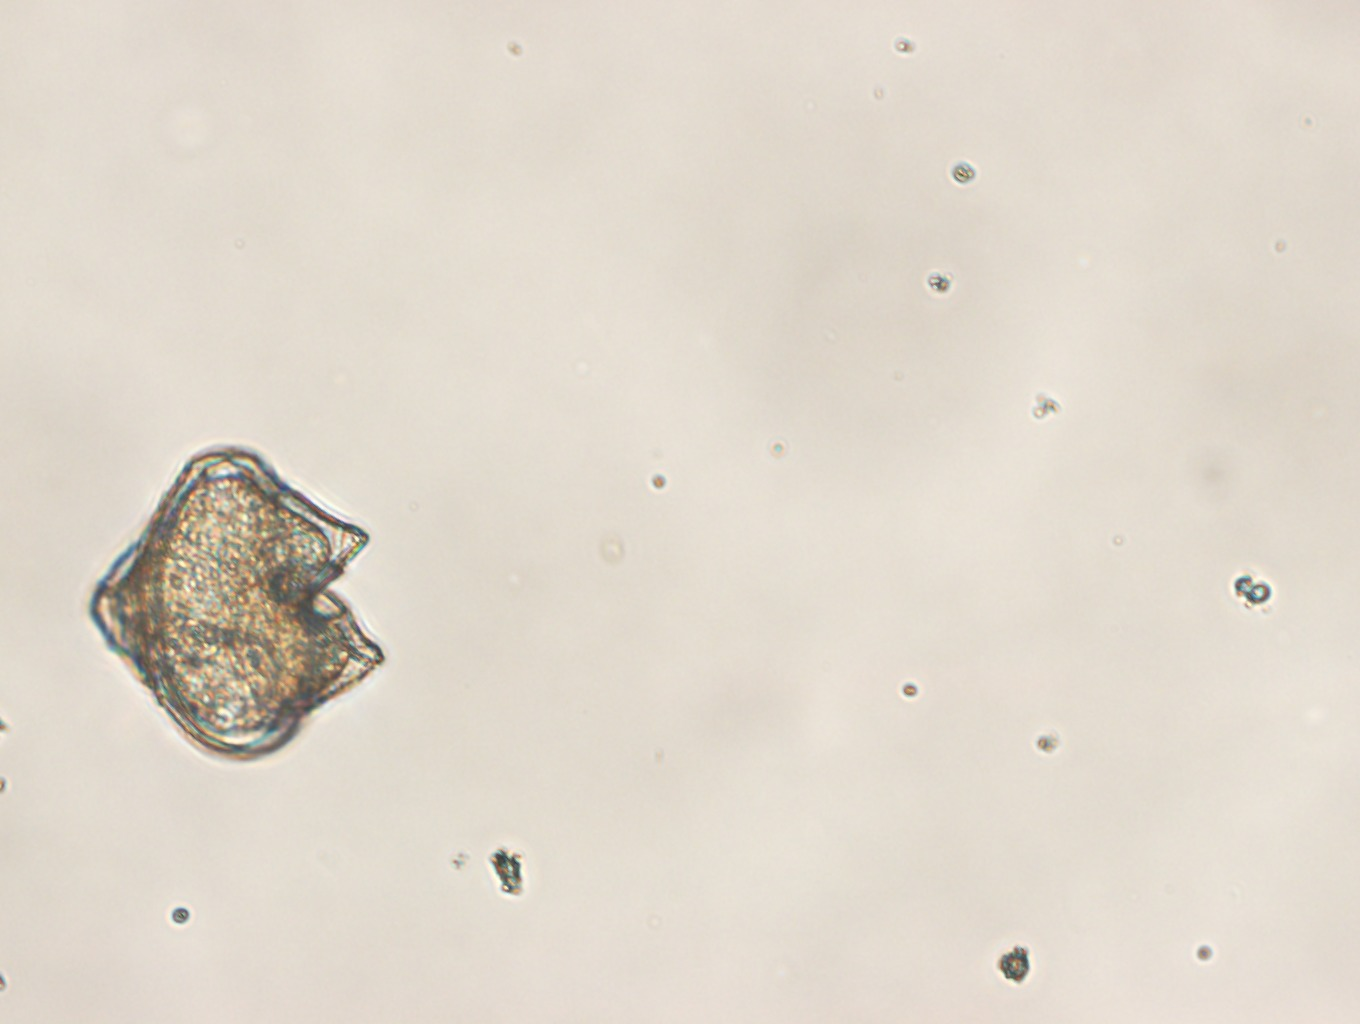protoperidinium: (85, 444, 387, 764)
